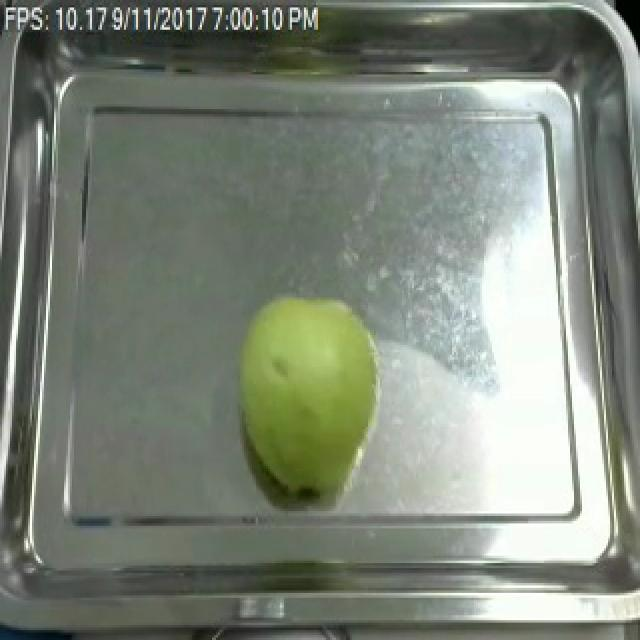Fruit: (228, 282, 394, 498)
